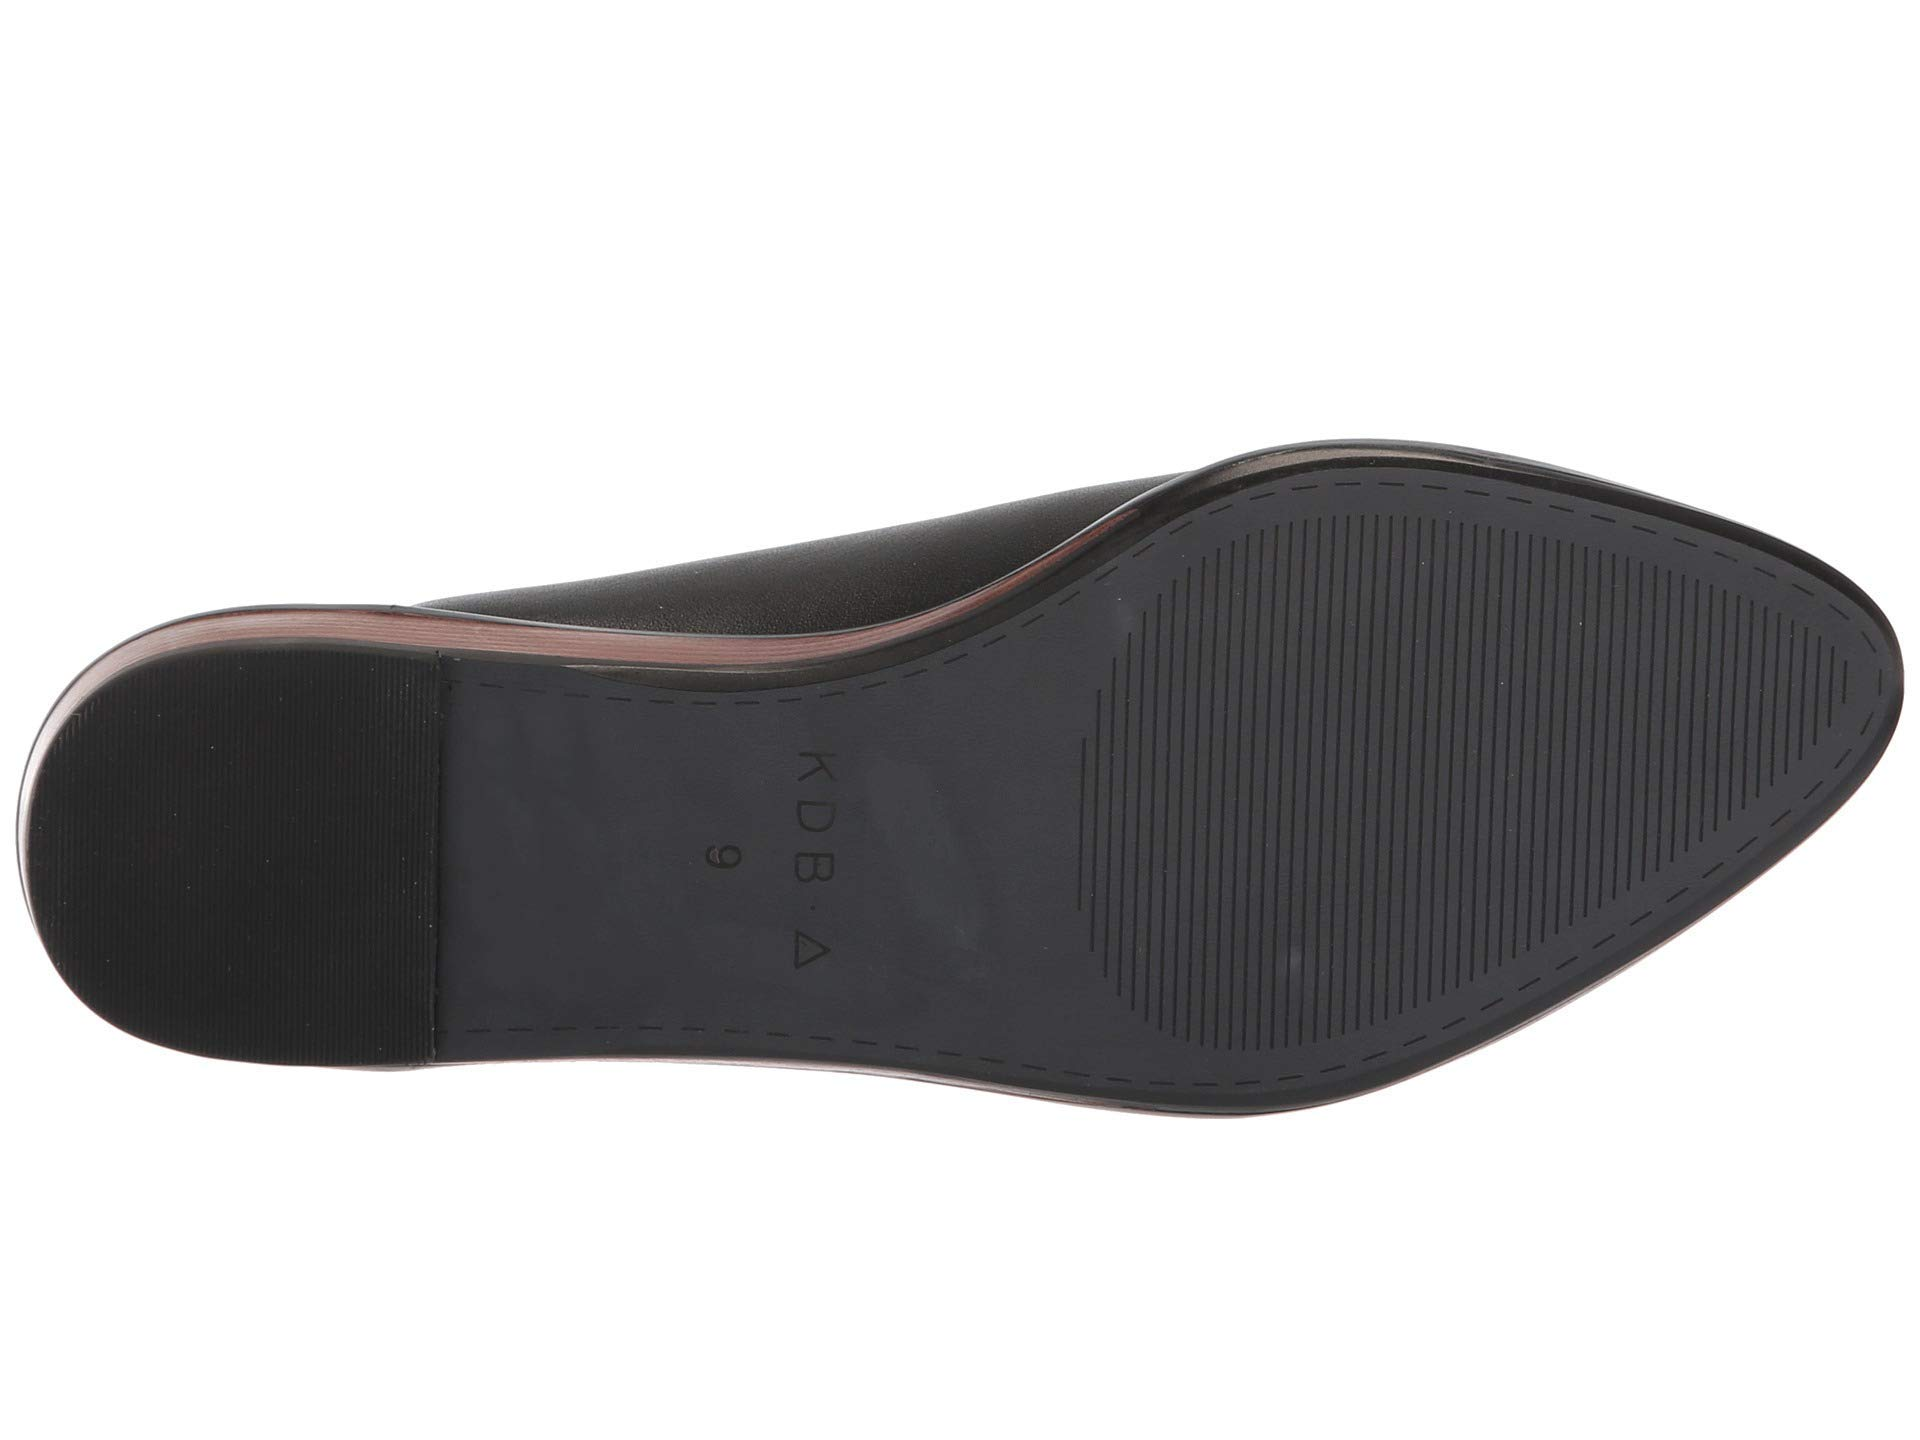line: (1149, 529, 1495, 974), (98, 684, 426, 1004), (1527, 585, 1730, 827), (1754, 641, 1826, 731)
text: (685, 731, 853, 989)
triangle: (685, 731, 853, 989)
